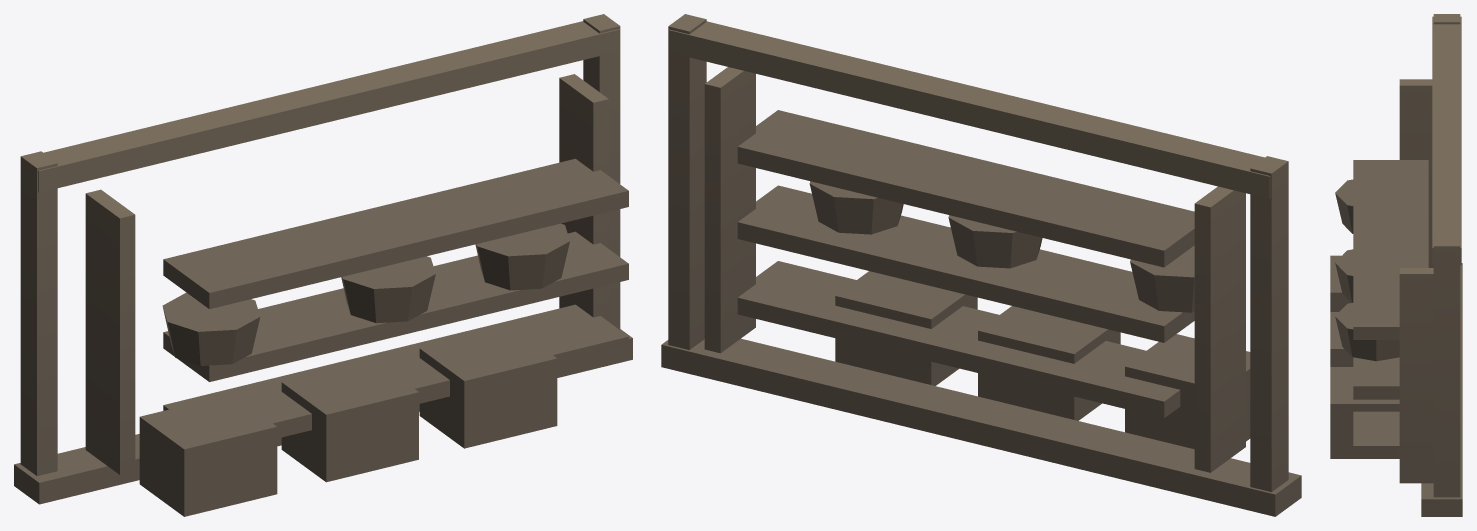
The model's file is facade_goods.glb.
3 views of the same model, side by side, from view 1: azimuth 30°, elevation 25°; view 2: azimuth 150°, elevation 25°; view 3: azimuth 270°, elevation 25° (orthographic). The views are drawn at different scales.
Parts seen in each view (by area): view 1: facade_goods; view 2: facade_goods; view 3: facade_goods.
Boxes of the visible parts, x1=… form: facade_goods: x1=14, y1=14, x2=632, y2=516; facade_goods: x1=661, y1=14, x2=1301, y2=516; facade_goods: x1=1330, y1=14, x2=1462, y2=516.
Bounding box in the file's own units: 4.6 × 2.44 × 1.09.
